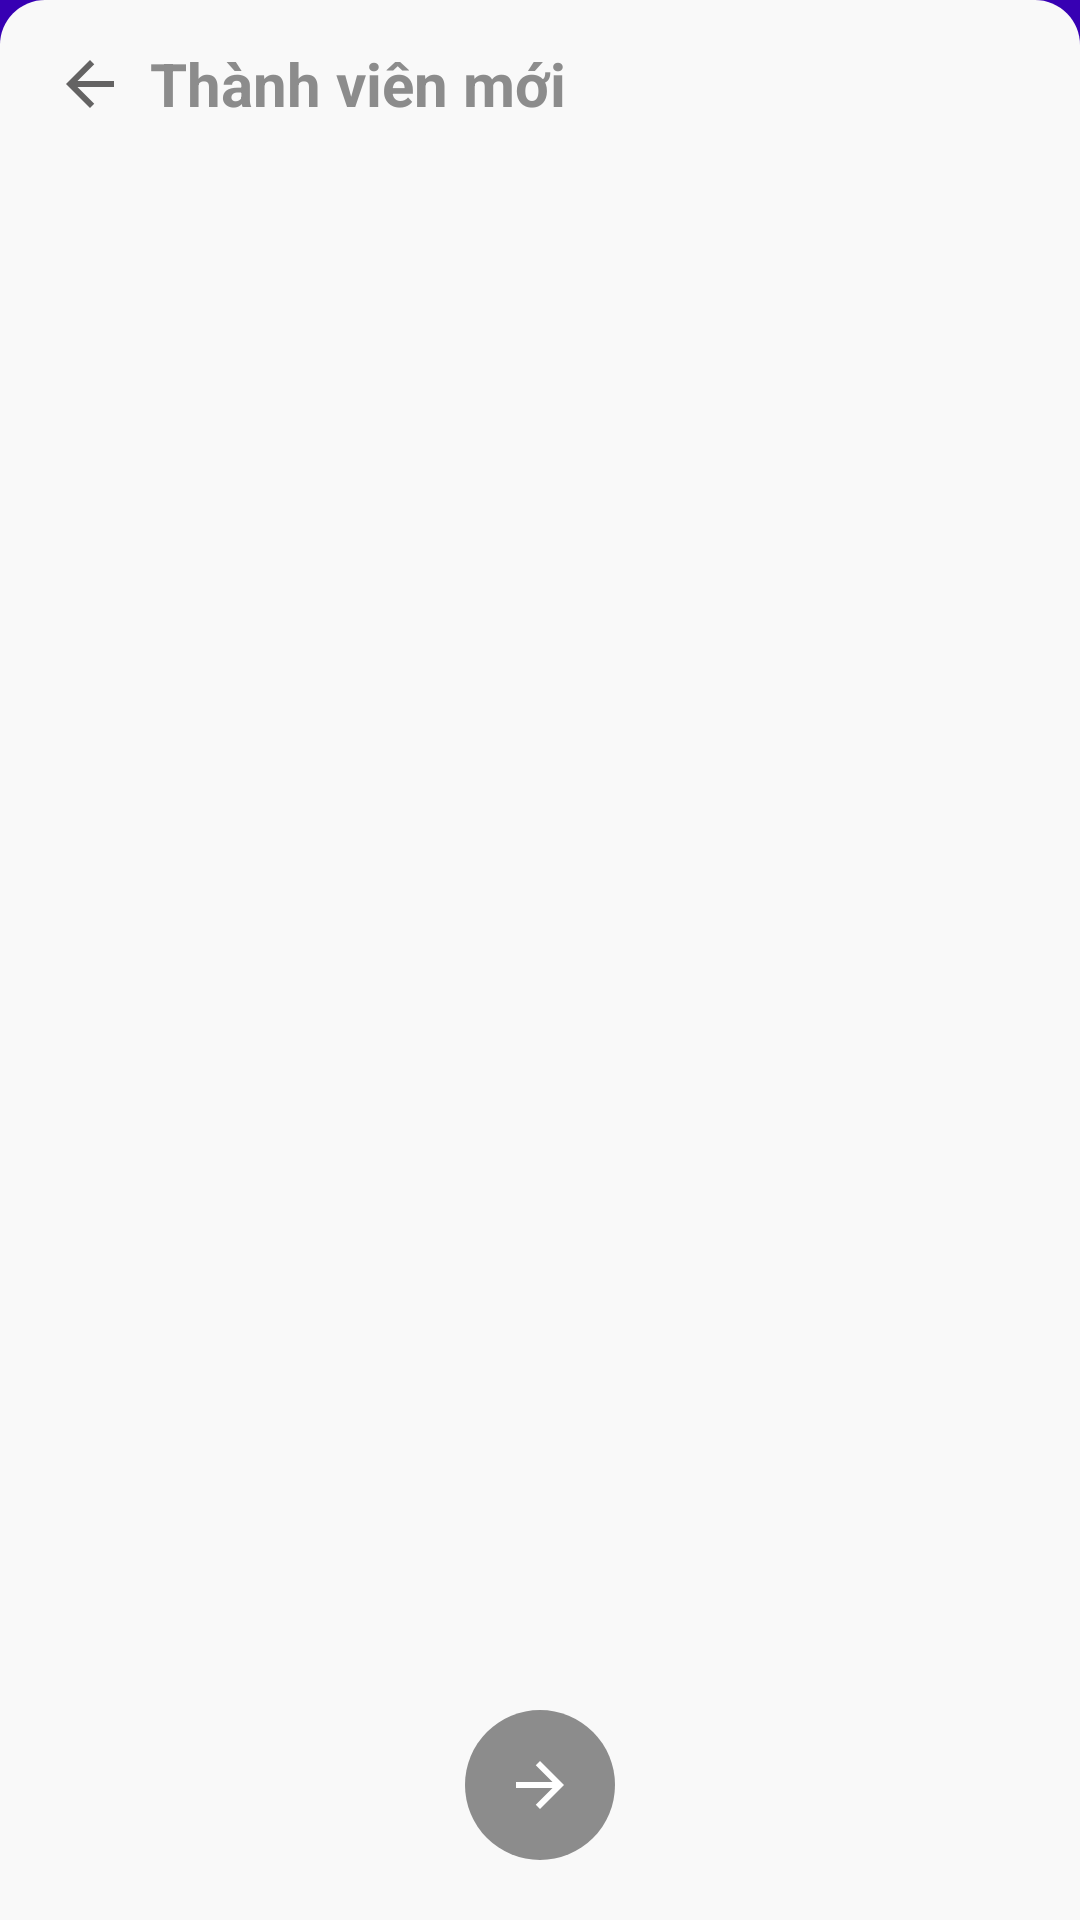

Screen size 1080px x 1920px. Icon name, then its box in pixels as (x1, y1, x2, y2):
arrow back: (66, 60, 114, 108)
arrow forward: (465, 1710, 615, 1860)
